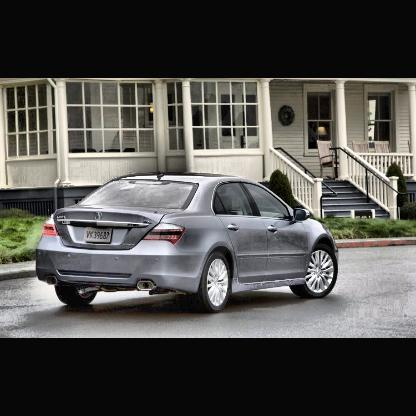Acura RL Sedan 2012: (34, 170, 341, 313)
